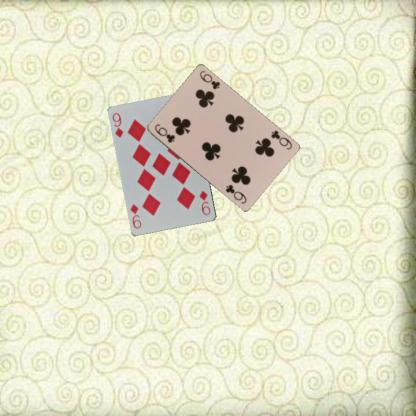6c: (268, 127, 293, 150), (152, 121, 176, 144)
9d: (110, 110, 125, 140), (197, 188, 212, 217)
